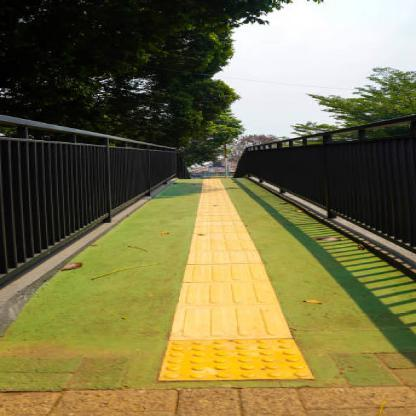podotacti: (159, 179, 317, 378)
